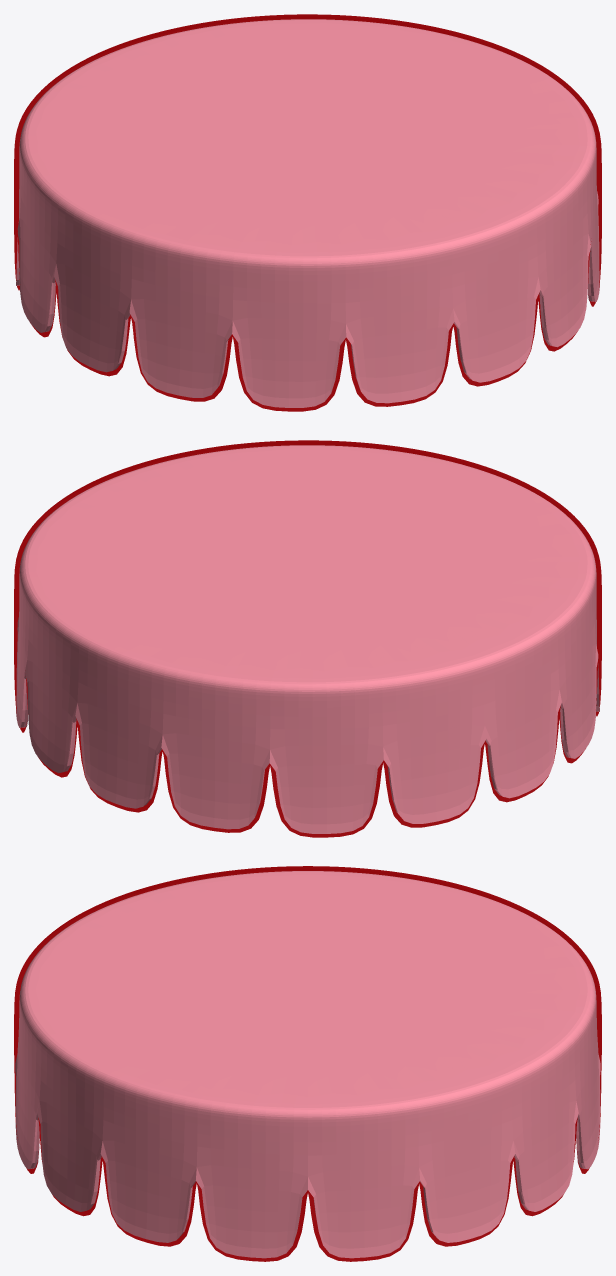
Rendered from circulo rosa.glb.
The picture shows the model from 3 angles, top to bottom: view 1: azimuth 30°, elevation 25°; view 2: azimuth 150°, elevation 25°; view 3: azimuth 270°, elevation 25°; orthographic projection.
Visible parts, largest first — view 1: Cylinder.018; view 2: Cylinder.018; view 3: Cylinder.018.
Part boxes in pixels (x1=…): Cylinder.018: x1=14, y1=14, x2=601, y2=411; Cylinder.018: x1=14, y1=440, x2=601, y2=837; Cylinder.018: x1=14, y1=866, x2=601, y2=1261.
Size of the model in its own units: 22.21 by 6.54 by 22.21.
